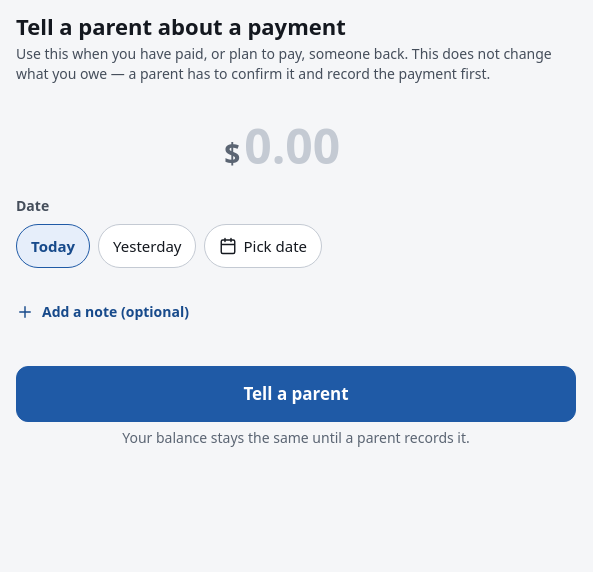
Test: SuggestPaymentPage › shows a failed send inline with a way to try again, never queued
Type "5" into the field named "Amount" at coordinates (306, 146), box [244,116,368,176]
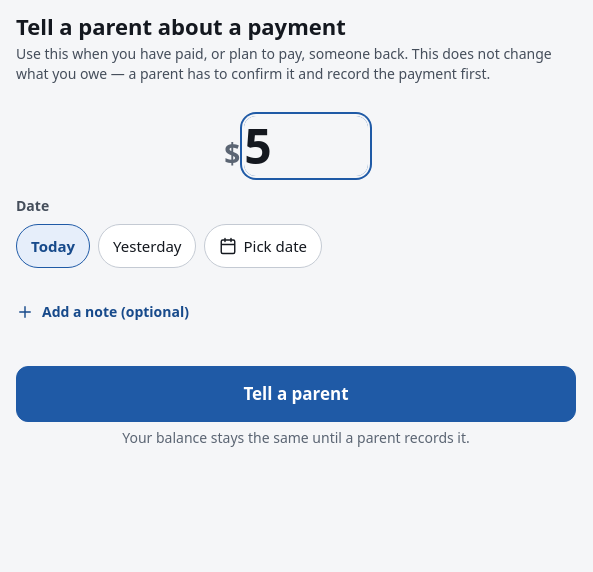
Click the button "Tell a parent" at coordinates (296, 394), box [16,366,576,422]
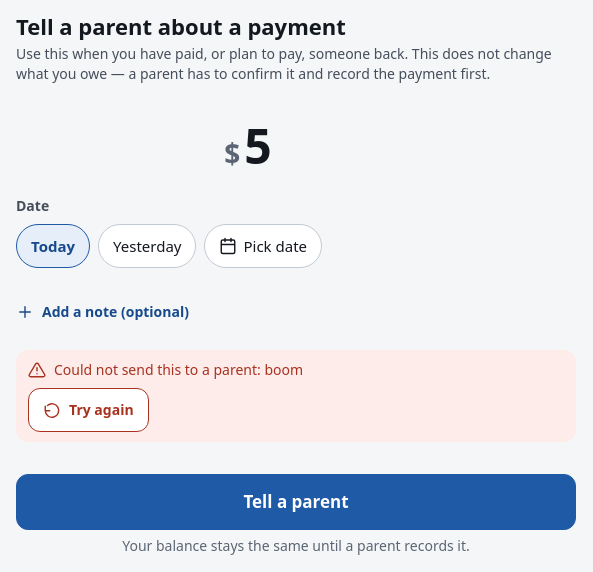
Expected: the message shows "boom", [54,360,303,379]
Expected: the button "Try again" is enabled, [28,388,149,432]
